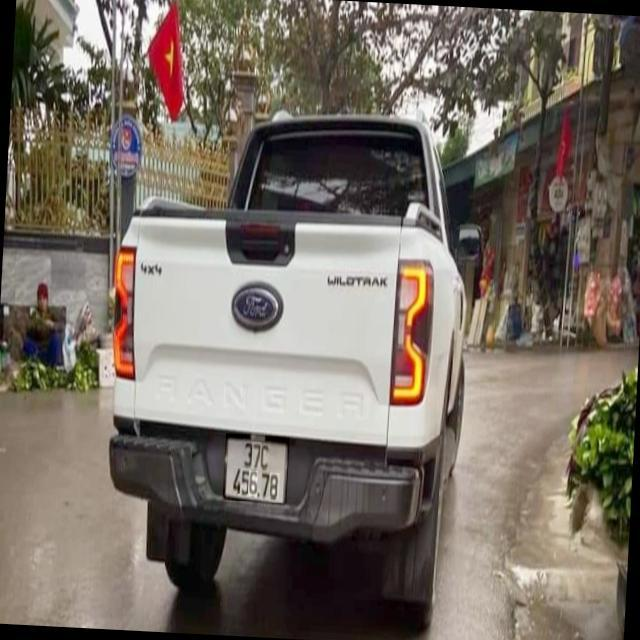car: (108, 110, 487, 609)
plate: (218, 432, 293, 508)
